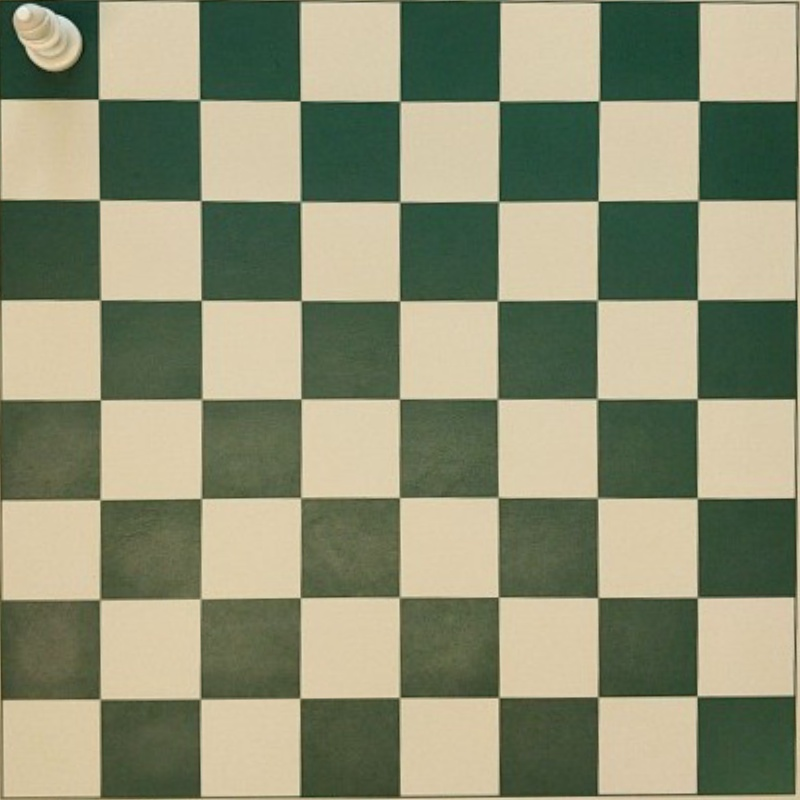white-bishop: (12, 2, 83, 73)
